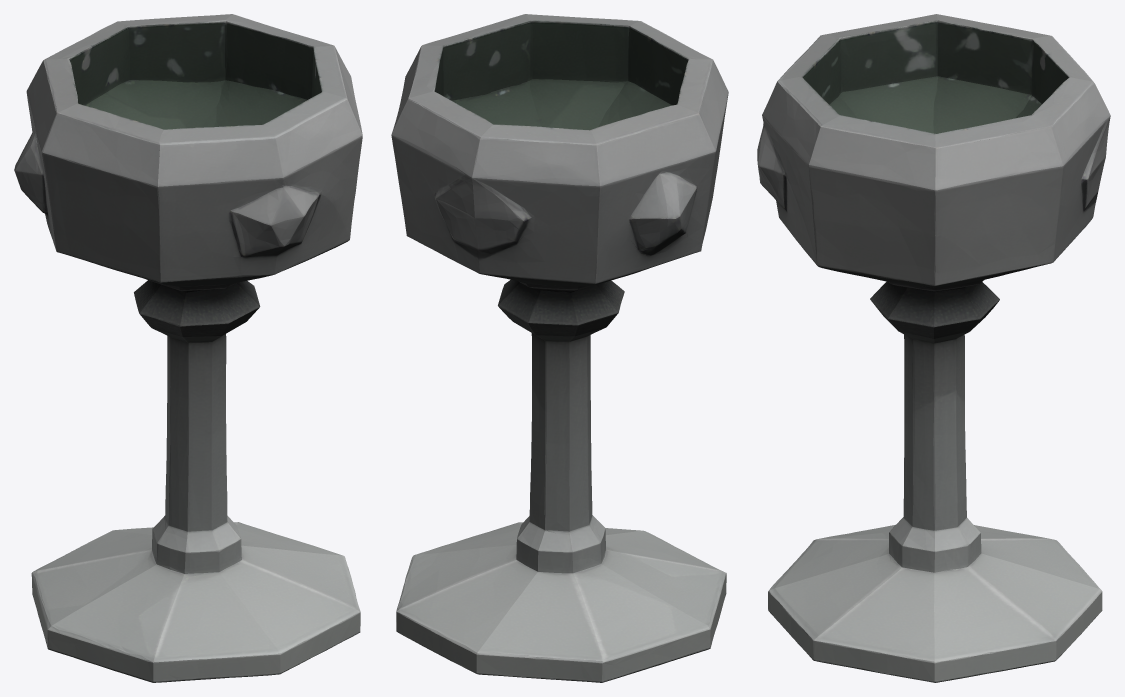
File: source.glb
3 views of the same model, side by side, from view 1: azimuth 30°, elevation 25°; view 2: azimuth 150°, elevation 25°; view 3: azimuth 270°, elevation 25° (orthographic).
Parts seen in each view (by area): view 1: world; view 2: world; view 3: world.
Boxes of the visible parts, bbox=[...] form: world: bbox=[14, 14, 362, 682]; world: bbox=[391, 14, 728, 682]; world: bbox=[757, 14, 1110, 682].
Size of the model in its own units: 0.6005 by 0.9998 by 0.5983.
1 material, 1 textured.
